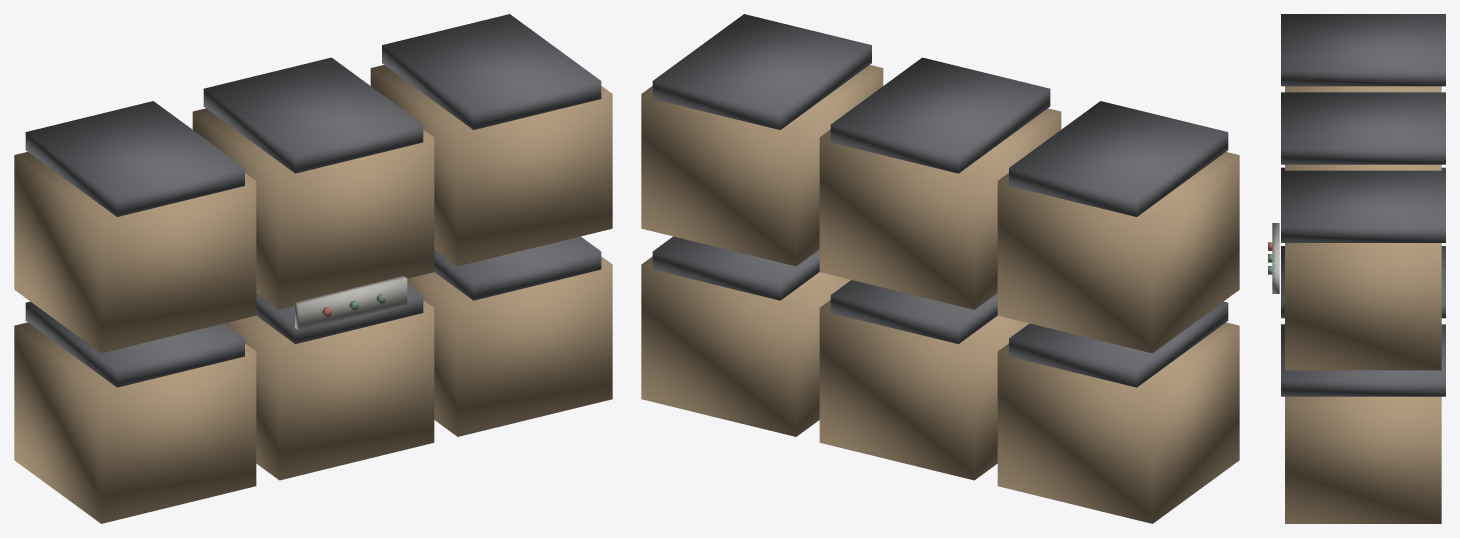
File: produce_stand__compact.glb
The picture shows the model from 3 angles, left to right: view 1: azimuth 30°, elevation 25°; view 2: azimuth 150°, elevation 25°; view 3: azimuth 270°, elevation 25°; orthographic projection. The views are drawn at different scales.
Parts seen in each view (by area): view 1: world; view 2: world; view 3: world.
Part boxes in pixels (<box>): world: <box>14,14,612,523</box>; world: <box>641,14,1239,523</box>; world: <box>1268,14,1445,523</box>.
Bounding box in the file's own units: 1.11 × 0.6696 × 0.3707.
